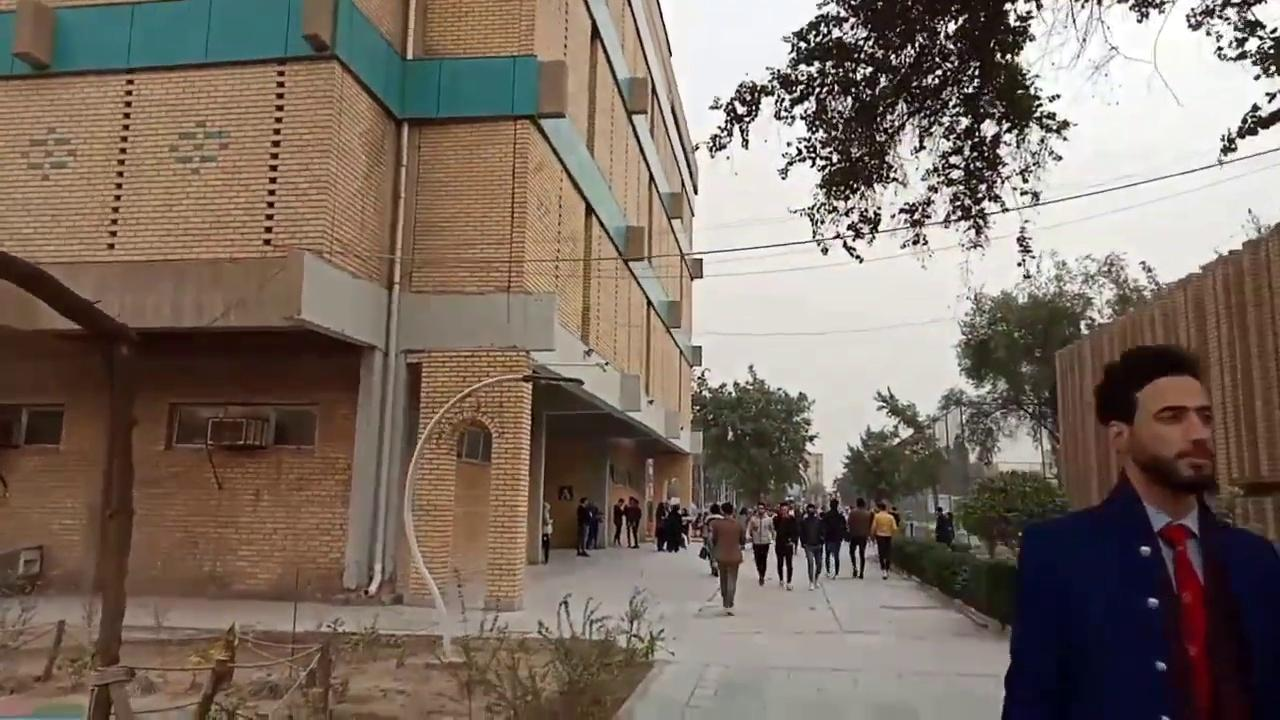person: (1000, 343, 1279, 719), (934, 506, 954, 548), (541, 500, 554, 563)
tree: (692, 0, 1278, 285), (0, 247, 142, 717), (949, 248, 1163, 481), (689, 362, 819, 510), (1184, 0, 1279, 168), (873, 384, 969, 513), (954, 468, 1069, 556), (834, 423, 919, 510), (935, 386, 1002, 468)
